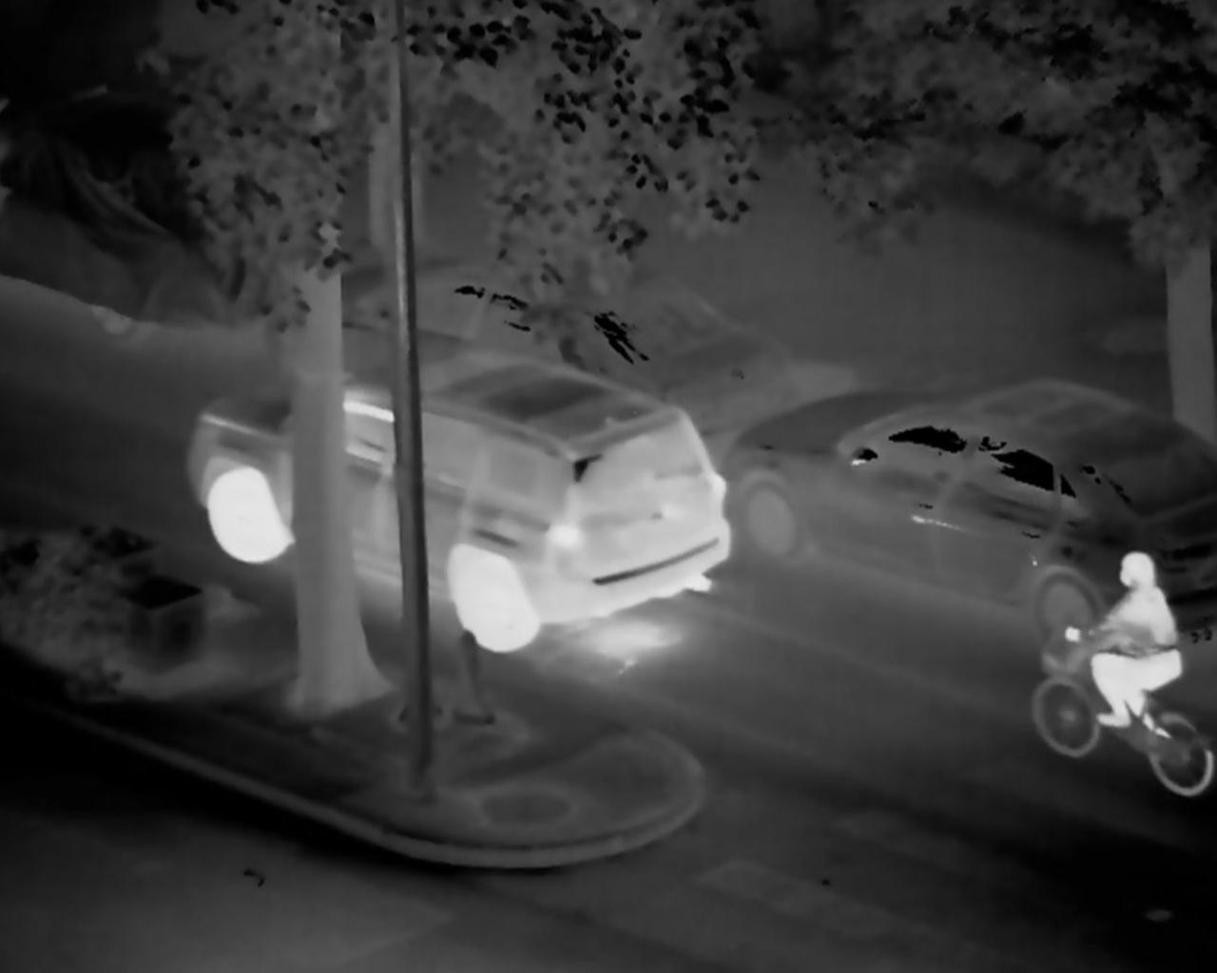person: (1059, 547, 1189, 733)
